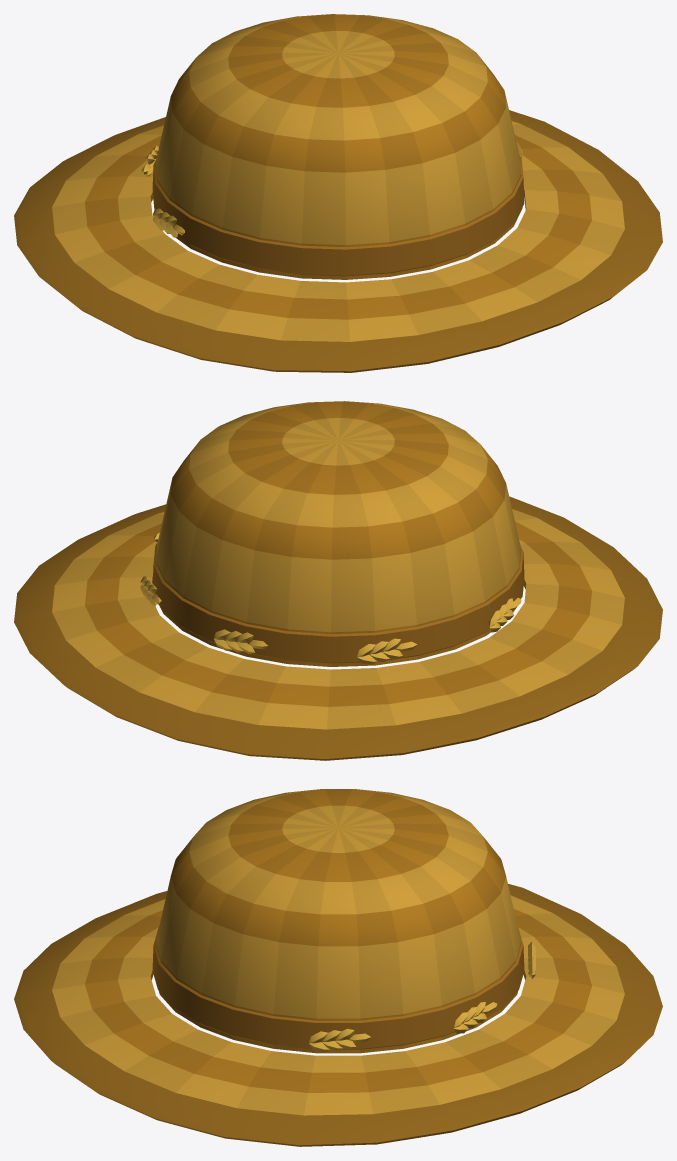
The model's file is cos_h_goldstraw.glb.
3 renders of one model, top to bottom at view 1: azimuth 30°, elevation 25°; view 2: azimuth 150°, elevation 25°; view 3: azimuth 270°, elevation 25°, orthographic.
Visible parts, largest first — view 1: h_goldstraw, h_goldstraw_metal; view 2: h_goldstraw, h_goldstraw_metal; view 3: h_goldstraw, h_goldstraw_metal.
Part boxes in pixels (left/top/right/bottom): h_goldstraw: left=14, top=14, right=662, bottom=372; h_goldstraw_metal: left=141, top=141, right=522, bottom=237; h_goldstraw: left=14, top=401, right=662, bottom=760; h_goldstraw_metal: left=140, top=533, right=521, bottom=664; h_goldstraw: left=14, top=789, right=662, bottom=1146; h_goldstraw_metal: left=309, top=941, right=535, bottom=1052.
Bounding box in the file's own units: 1.37 × 0.435 × 1.38.
